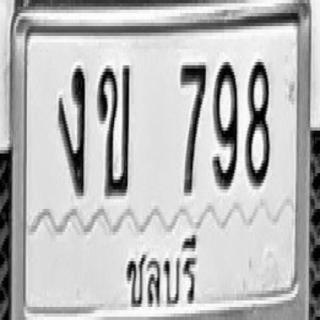A02: (98, 62, 130, 196)
A07: (57, 64, 85, 194)
N07: (179, 62, 206, 192)
N08: (245, 59, 270, 186)
N09: (212, 59, 237, 189)
P13: (123, 228, 200, 320)
